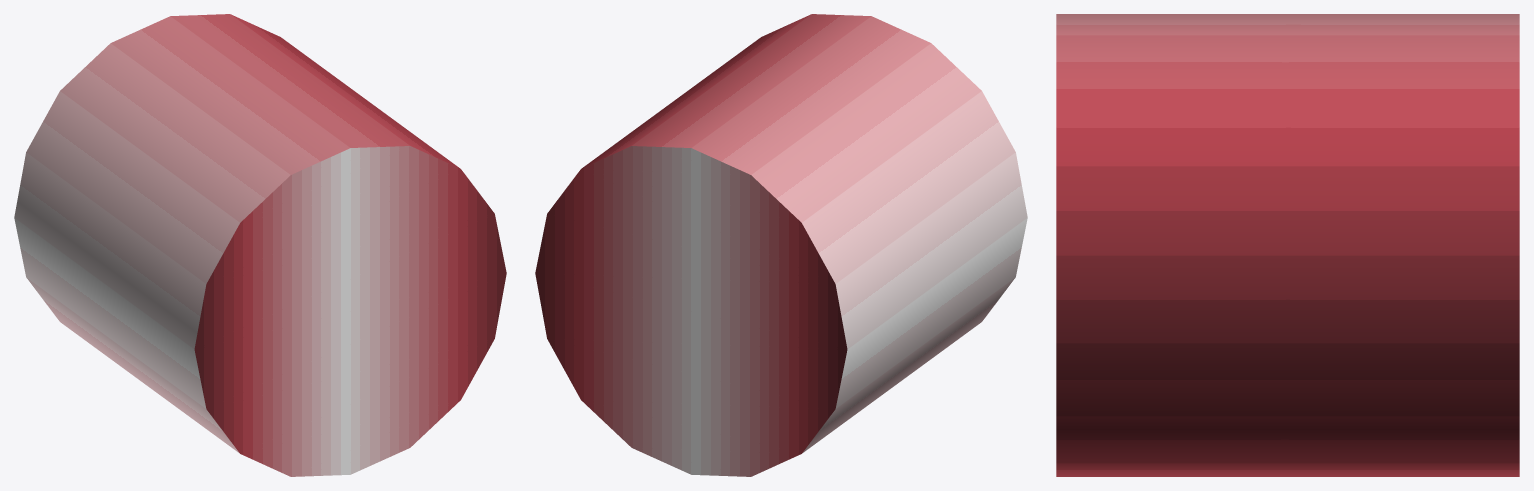
The model's file is pipeRed.dae.
The picture shows the model from 3 angles, left to right: view 1: azimuth 30°, elevation 25°; view 2: azimuth 150°, elevation 25°; view 3: azimuth 270°, elevation 25°; orthographic projection. The views are drawn at different scales.
Parts seen in each view (by area): view 1: skpEF69; view 2: skpEF69; view 3: skpEF69.
Part boxes in pixels (left/top/right/bottom): skpEF69: left=14, top=14, right=506, bottom=476; skpEF69: left=535, top=14, right=1027, bottom=476; skpEF69: left=1056, top=14, right=1519, bottom=476.
Bounding box in the file's own units: 39.37 × 39.37 × 39.37.
1 material, 1 textured.
